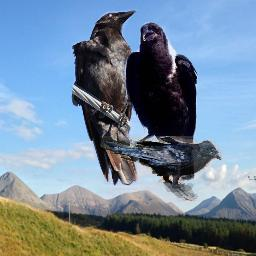Crow: (124, 21, 199, 185), (71, 8, 139, 186), (100, 136, 222, 201)
